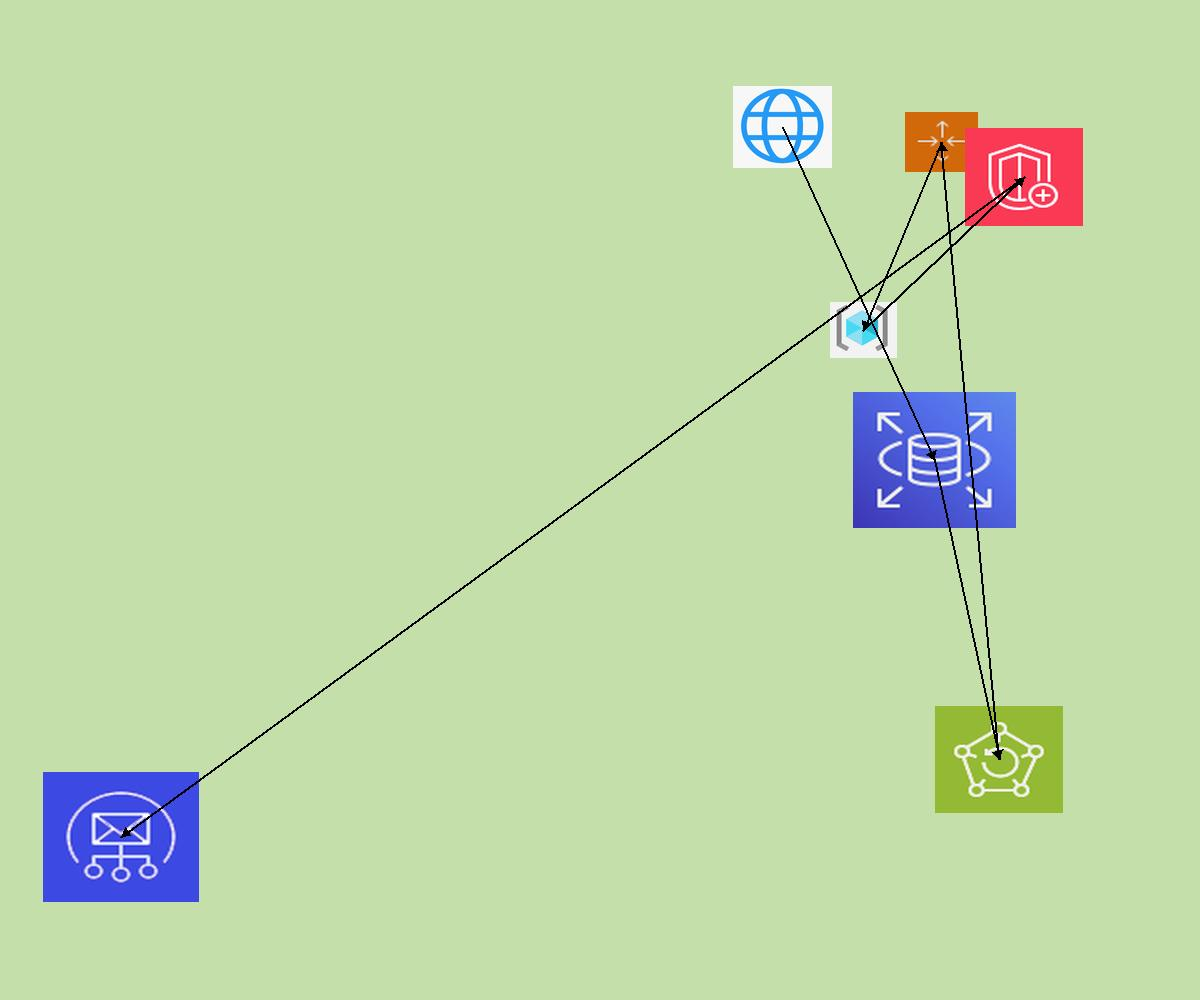AWS-Backup: (935, 706, 1063, 813)
AWS-RDS: (853, 392, 1016, 528)
AWS-Scaling-group: (905, 112, 978, 172)
AWS-Shield: (965, 128, 1083, 226)
AWS-Simple-Email-Service: (43, 772, 199, 902)
Azure_http: (733, 86, 832, 168)
Azure_resource_group: (830, 302, 897, 358)
